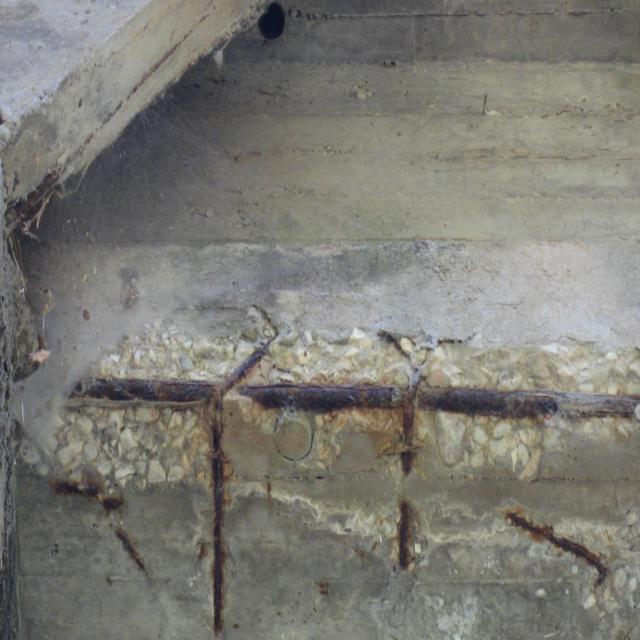Rebar: (48, 296, 640, 640), (2, 4, 218, 238)
